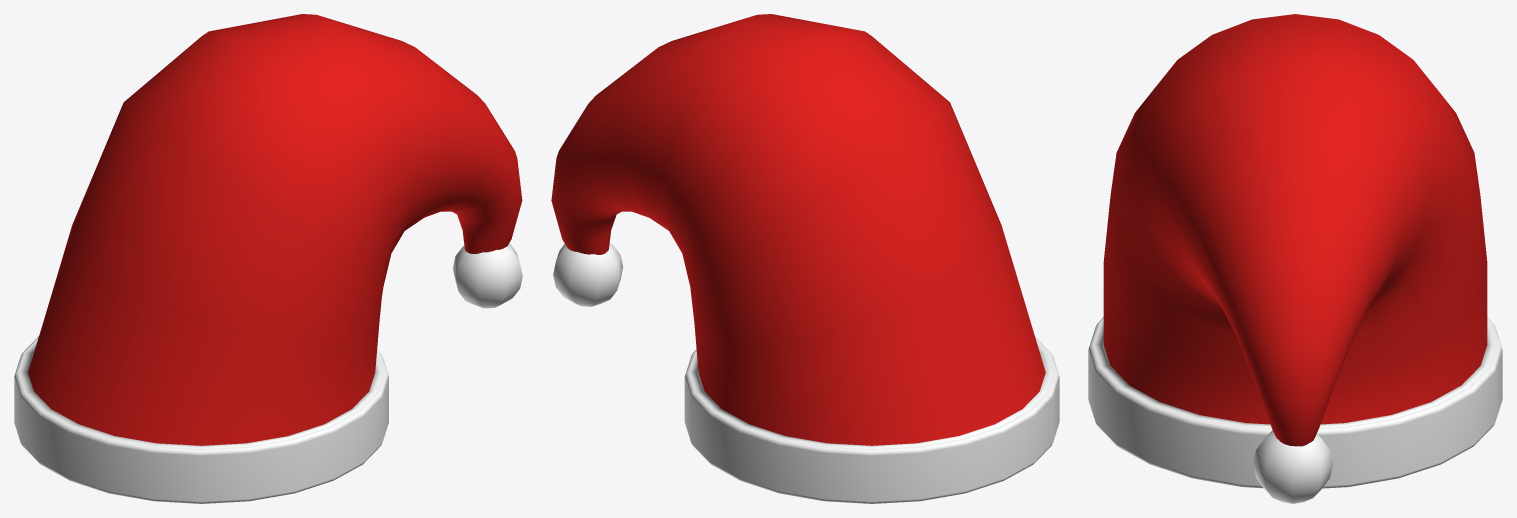
File: santahat.fbx
3 views of the same model, side by side, from view 1: azimuth 30°, elevation 25°; view 2: azimuth 150°, elevation 25°; view 3: azimuth 270°, elevation 25° (orthographic). The views are drawn at different scales.
Parts seen in each view (by area): view 1: santahat; view 2: santahat; view 3: santahat.
Boxes of the visible parts, box(x1,y1,x2,y2) form: santahat: box(14, 14, 522, 503); santahat: box(551, 14, 1059, 503); santahat: box(1088, 14, 1502, 503).
Bounding box in the file's own units: 66.49 × 49.36 × 45.08.
